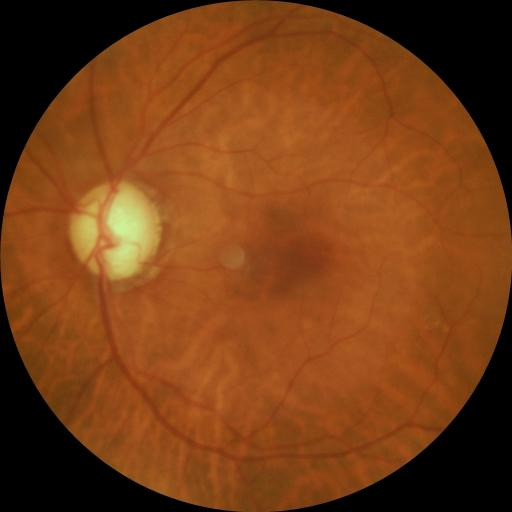Optic Cup: (97, 204, 141, 270)
Optic Disc: (69, 180, 162, 278)
